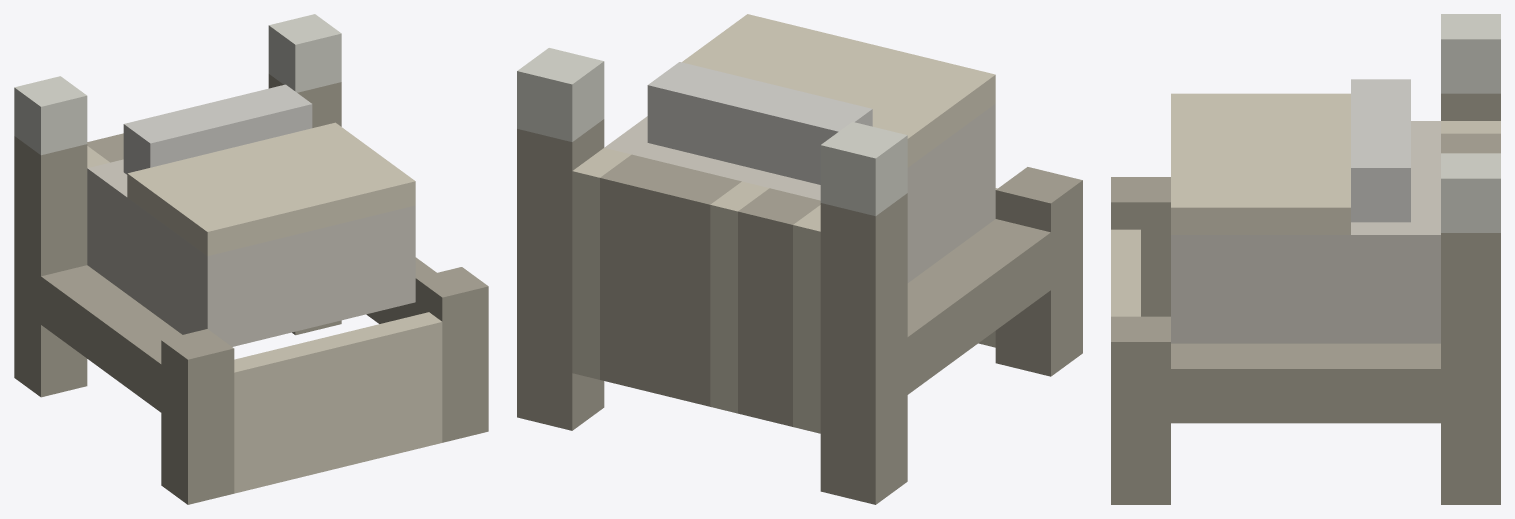
The model's file is cuna_abedul_01.glb.
The picture shows the model from 3 angles, left to right: view 1: azimuth 30°, elevation 25°; view 2: azimuth 150°, elevation 25°; view 3: azimuth 270°, elevation 25°; orthographic projection. The views are drawn at different scales.
Parts seen in each view (by area): view 1: cuna_abedul; view 2: cuna_abedul; view 3: cuna_abedul.
Boxes of the visible parts, <box> form: cuna_abedul: <box>14,14,488,504</box>; cuna_abedul: <box>517,14,1082,504</box>; cuna_abedul: <box>1111,14,1500,504</box>.
Size of the model in its own units: 1 by 0.9231 by 1.
